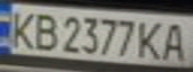2: (57, 11, 84, 54)
3: (78, 13, 103, 55)
7: (96, 15, 121, 56), (115, 16, 139, 57)
A: (160, 19, 193, 62)
B: (27, 10, 60, 52)
K: (3, 7, 39, 50), (136, 17, 166, 61)
